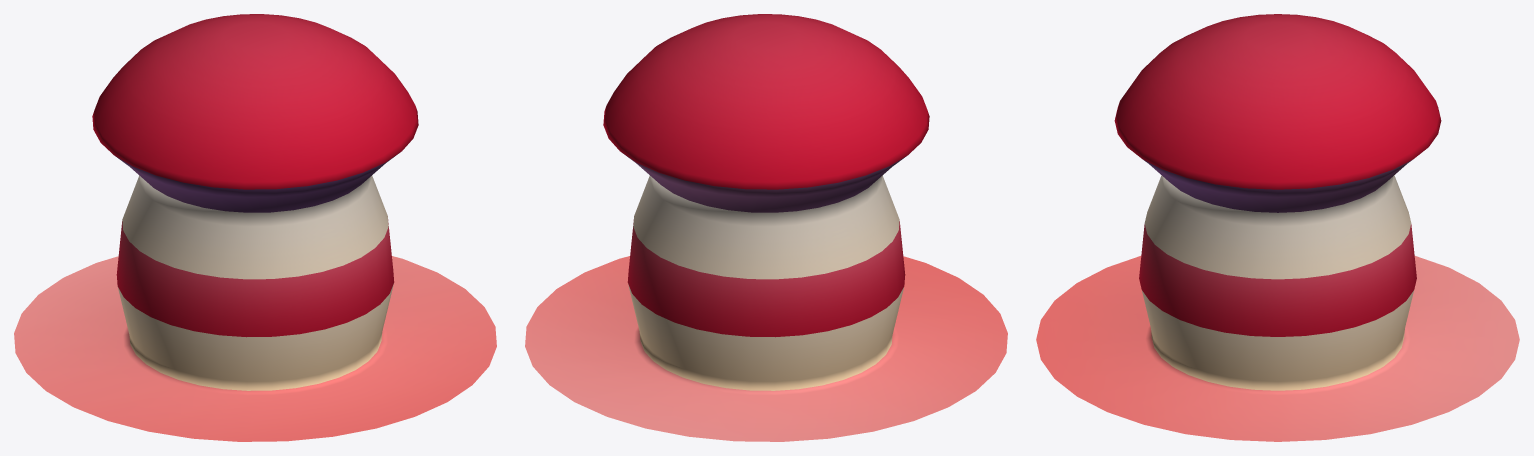
Rendered from Space_Bumber.FBX.
3 renders of one model, left to right at view 1: azimuth 30°, elevation 25°; view 2: azimuth 150°, elevation 25°; view 3: azimuth 270°, elevation 25°, orthographic.
Visible parts, largest first — view 1: Bumper; view 2: Bumper; view 3: Bumper.
Part boxes in pixels (x1,y1,x2,y2): Bumper: (14,14,496,441); Bumper: (525,14,1007,441); Bumper: (1036,14,1519,441).
Bounding box in the file's own units: 73.87 × 51.18 × 73.87.
